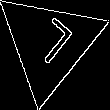L_SW: (22, 14, 77, 73)
